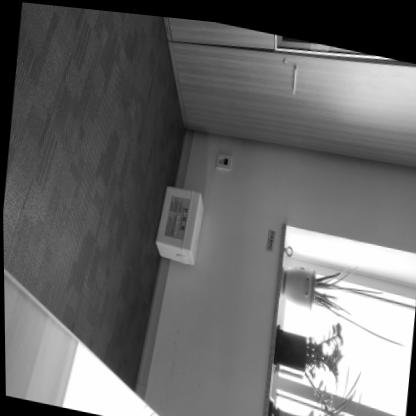DDL: (150, 176, 205, 262)
